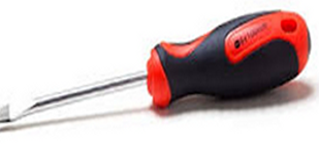Screwdriver: (3, 9, 319, 131)
